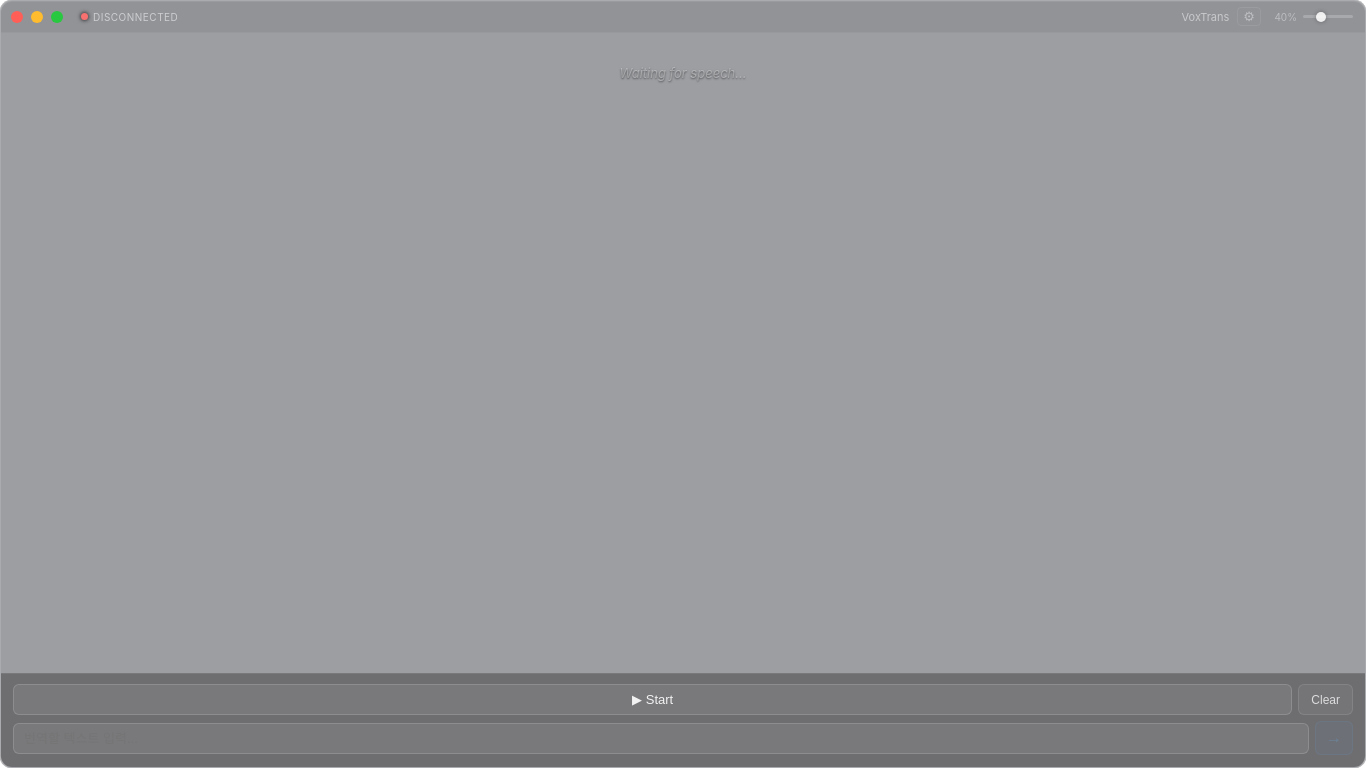
Scenario: the subtitle pace fields › snaps an out-of-range entry to the bound it broke
The image size is (1366, 768).
Click the button titled "Settings".
click(1249, 16)  # box [1237,7,1261,26]
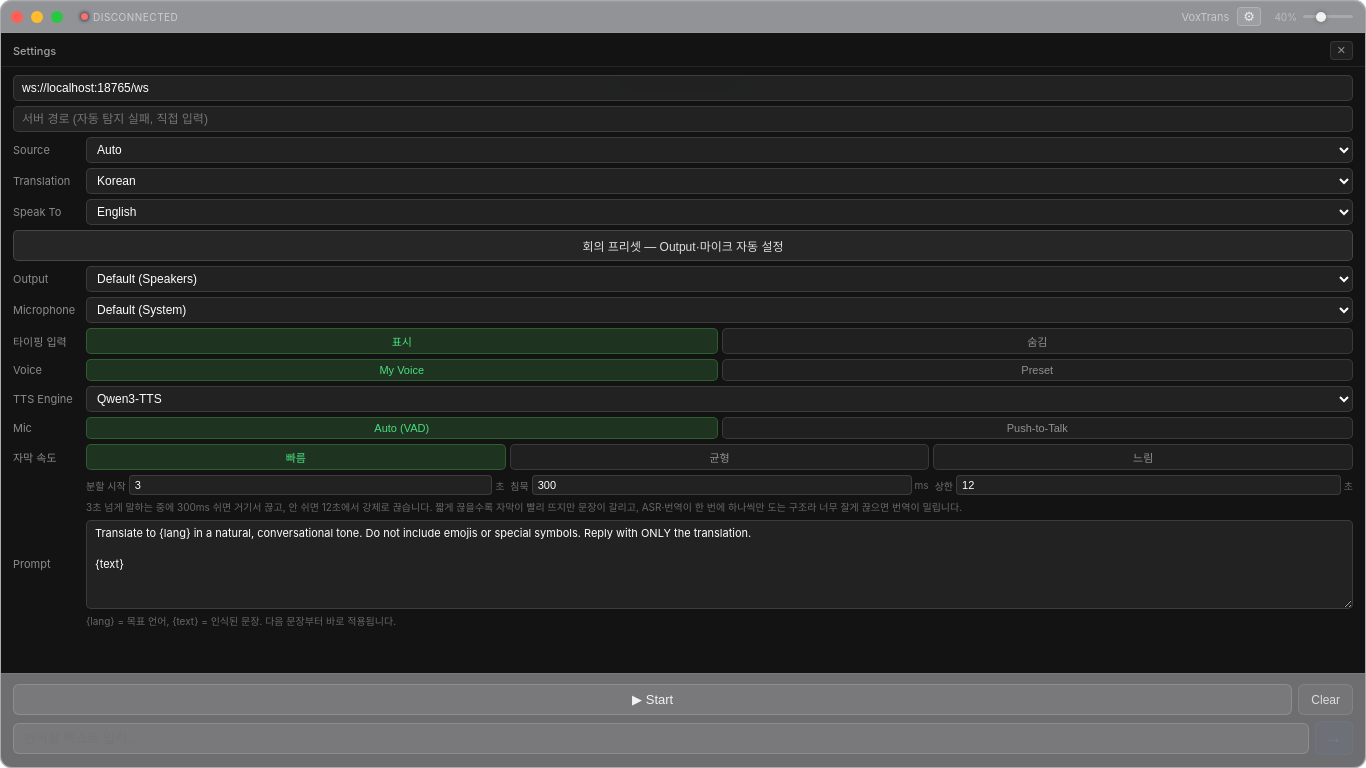
Replace the text in the field labelled "분할 시작" with "999" at [310, 485], box [129,475,492,495]
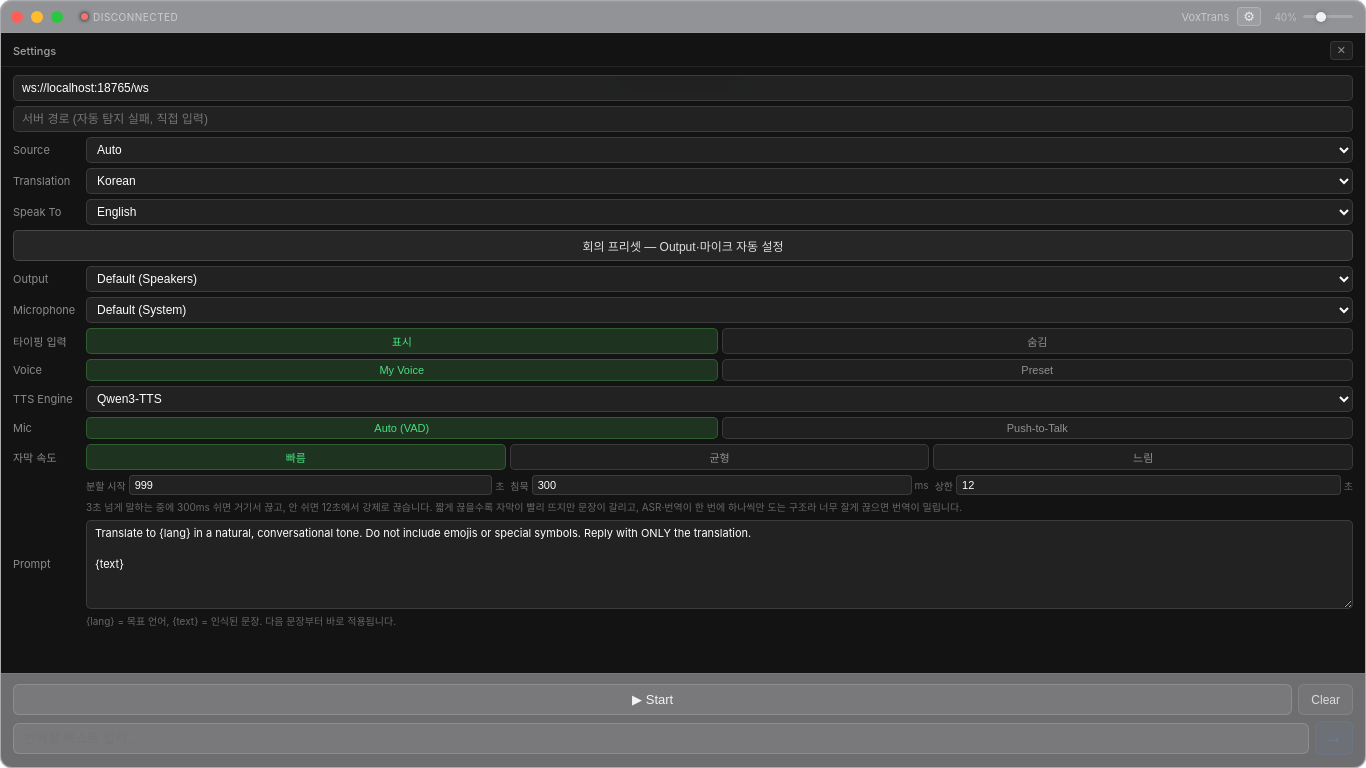
Leave the field labelled "분할 시작", box [129,475,492,495]
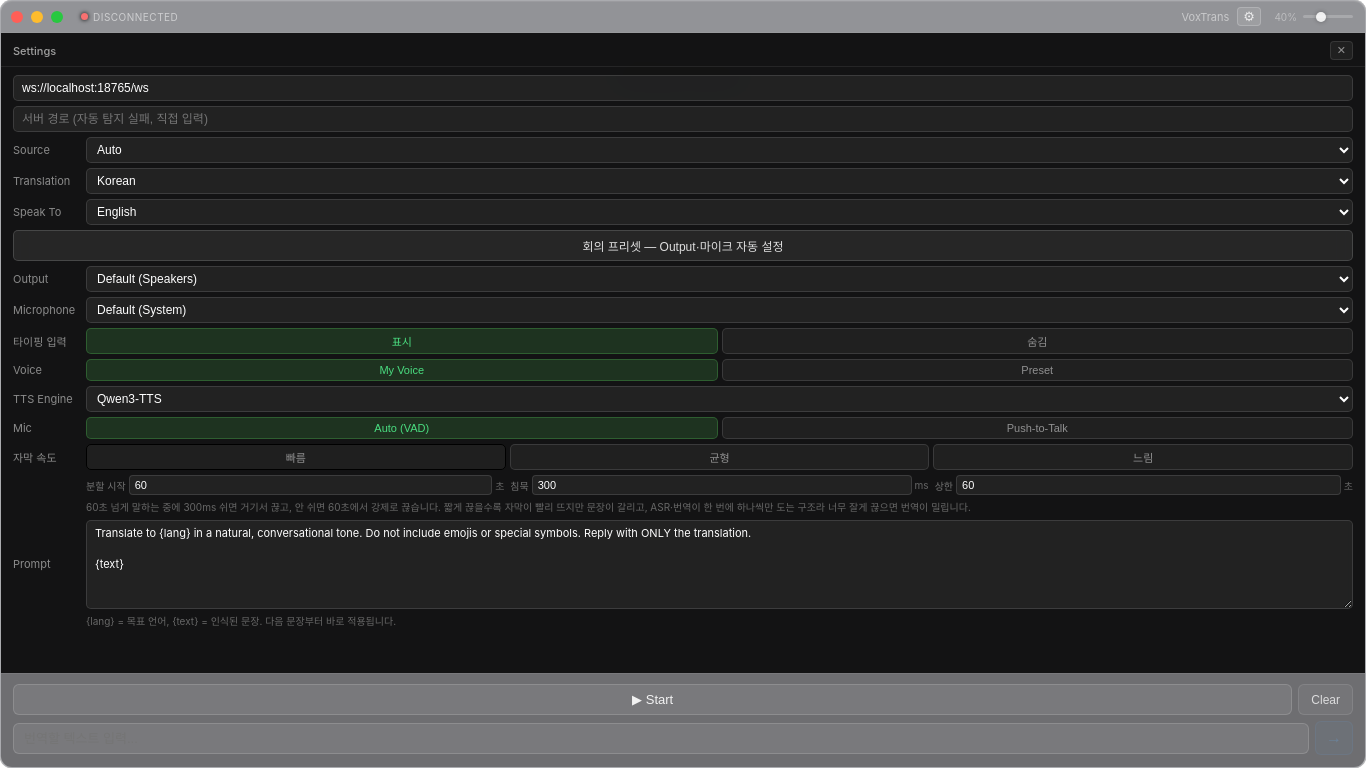
Expected: the field labelled "분할 시작" holds "60", [129,475,492,495]
